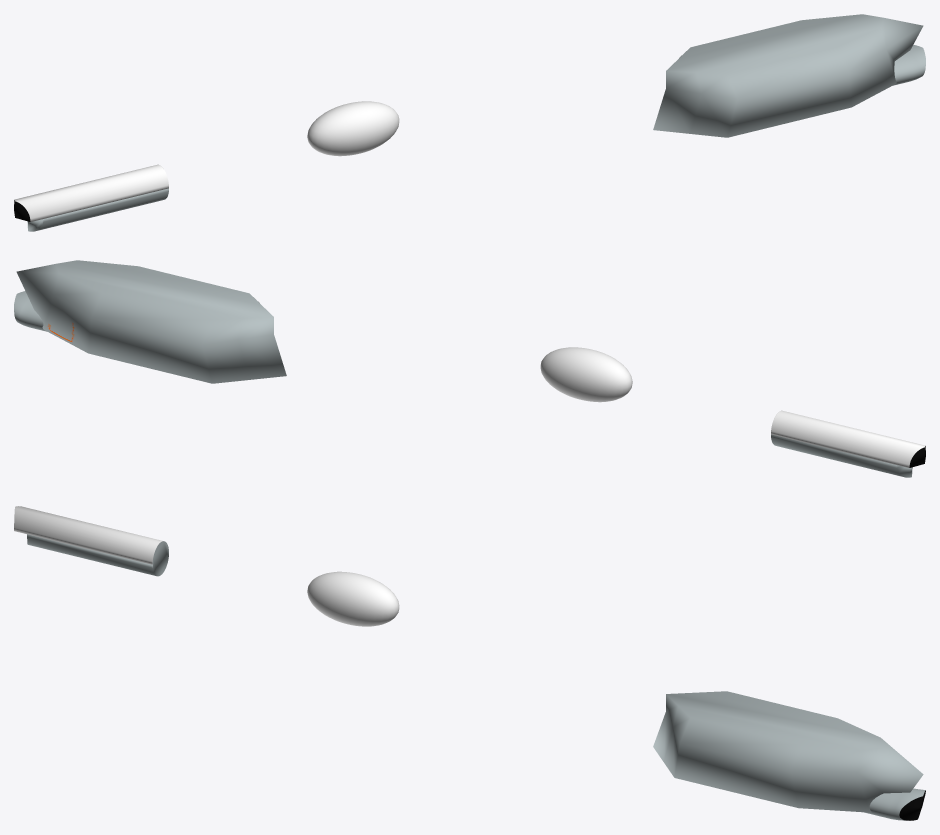
The picture shows the model from 3 angles, top to bottom: view 1: azimuth 30°, elevation 25°; view 2: azimuth 150°, elevation 25°; view 3: azimuth 330°, elevation 25°; orthographic projection.
Visible parts, largest first — view 1: 立方体, 円柱.002, 球, 円柱; view 2: 立方体, 円柱.002, 球, 円柱; view 3: 立方体, 円柱.002, 球, 円柱.
Part boxes in pixels (x1,y1,x2,y2): 立方体: [653, 14, 923, 137]; 円柱.002: [14, 164, 168, 231]; 球: [307, 101, 399, 156]; 円柱: [893, 45, 925, 85]; 立方体: [16, 260, 286, 383]; 円柱.002: [771, 410, 925, 477]; 球: [540, 347, 632, 402]; 円柱: [14, 291, 46, 331]; 立方体: [653, 691, 923, 812]; 円柱.002: [14, 506, 168, 576]; 球: [307, 571, 399, 626]; 円柱: [864, 788, 925, 820].
Size of the model in its own units: 40.56 by 4.56 by 4.44.
Materials: 5 (3 with a texture image).
